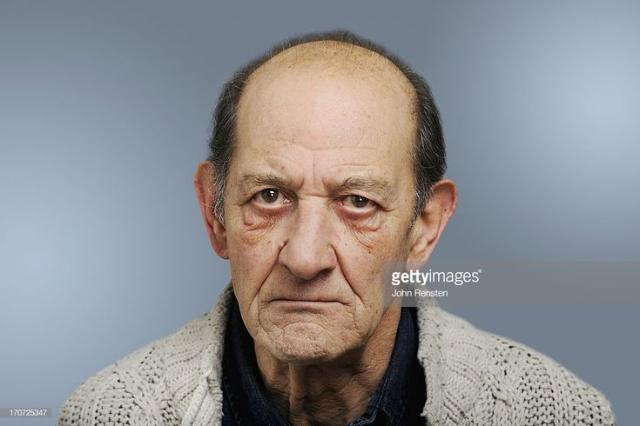chin: (280, 315, 306, 331)
crows_feet: (233, 194, 251, 220), (376, 204, 394, 220)
forehead: (336, 156, 372, 174), (284, 140, 330, 154)
frown_line: (308, 163, 318, 187), (294, 176, 306, 192)
gummy_smile: (260, 249, 280, 294), (332, 252, 353, 288)
sad_smile: (247, 302, 267, 332), (346, 308, 359, 328)
